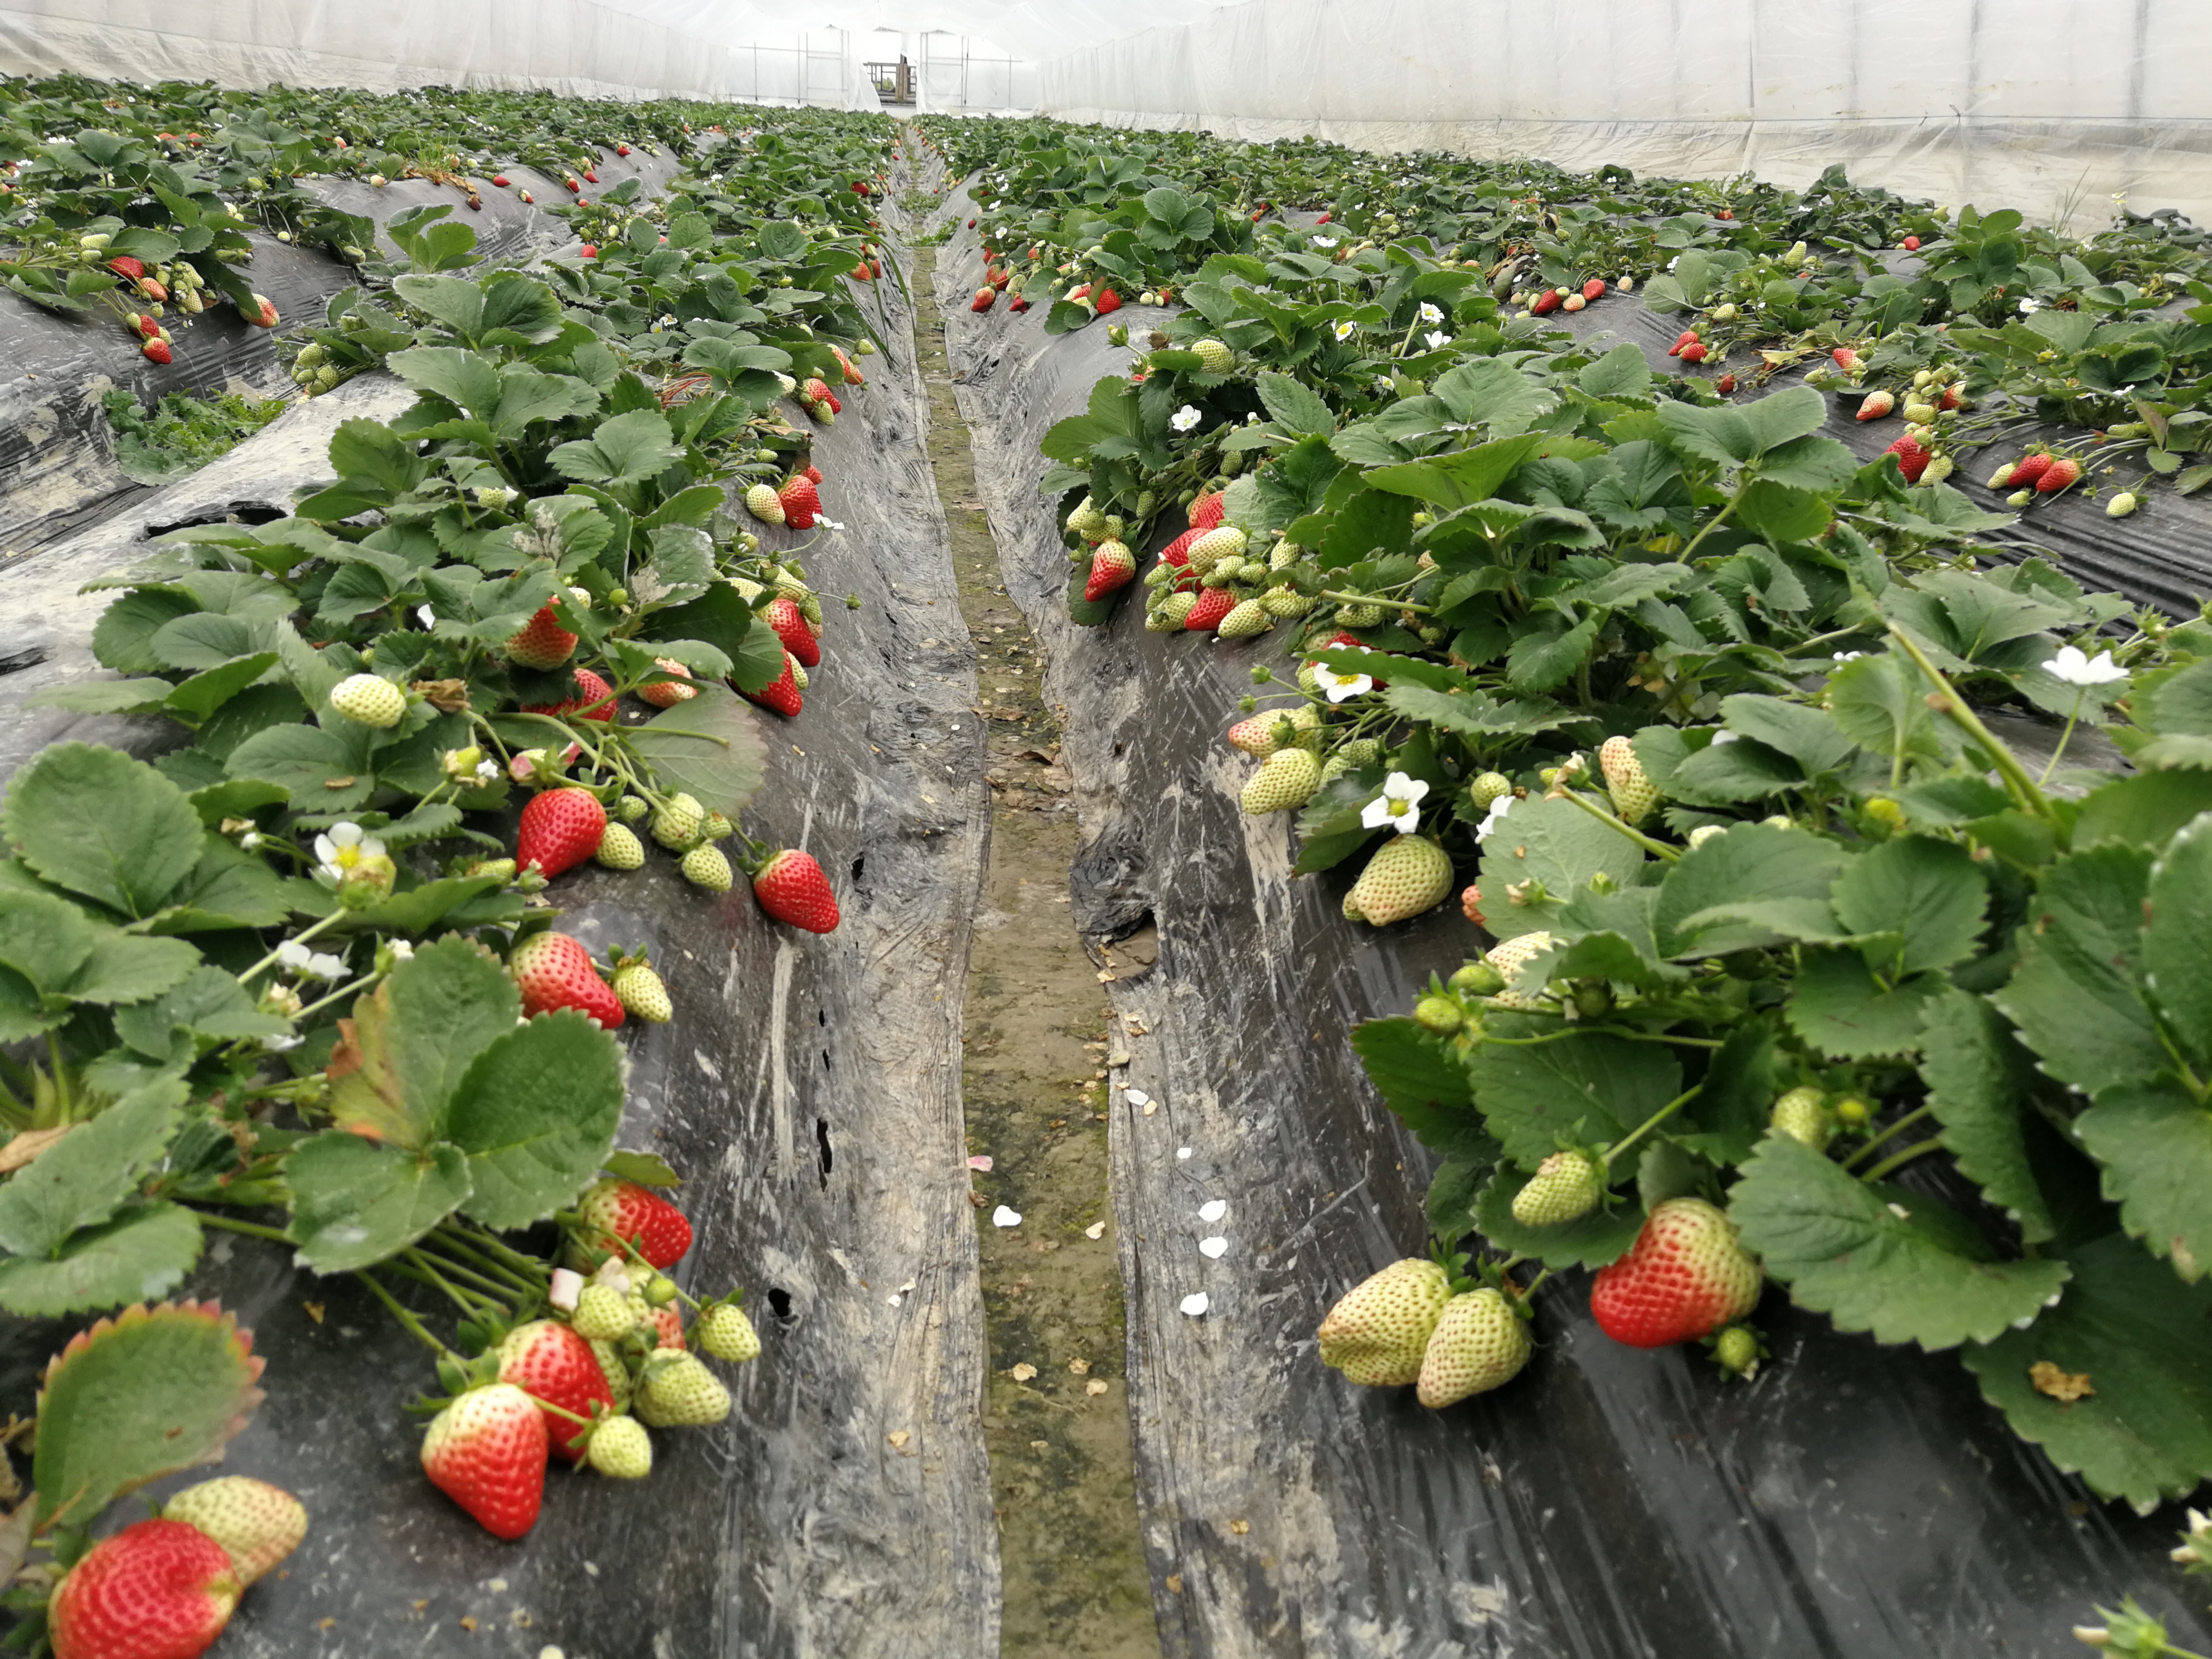StrawberryCone: (509, 767, 611, 906), (744, 840, 852, 943), (721, 641, 824, 746), (752, 589, 834, 664), (775, 469, 834, 538), (1183, 580, 1242, 640), (2029, 458, 2085, 498), (2005, 448, 2054, 491), (1662, 321, 1712, 357), (1092, 284, 1129, 324), (1679, 345, 1714, 371)
StrawberryIrremovable: (44, 1525, 251, 1657), (411, 1370, 554, 1553), (1588, 1204, 1777, 1340), (146, 1466, 320, 1588), (479, 1309, 618, 1453), (1308, 1262, 1454, 1394), (552, 1159, 707, 1279), (1332, 812, 1460, 939), (1407, 1279, 1552, 1391), (505, 920, 620, 1039), (1242, 727, 1385, 819), (608, 1358, 766, 1438), (1740, 1070, 1869, 1145), (1496, 1147, 1618, 1220), (312, 657, 423, 735), (1592, 730, 1679, 829), (1407, 958, 1510, 1037), (578, 1408, 665, 1495), (622, 633, 702, 727), (496, 592, 585, 674), (561, 1272, 644, 1347), (1214, 699, 1338, 746), (674, 1293, 768, 1354), (620, 950, 681, 1030), (648, 786, 711, 852), (1075, 538, 1139, 599), (791, 371, 846, 430), (1717, 1316, 1766, 1375), (596, 821, 648, 873), (1468, 765, 1519, 816), (1190, 331, 1242, 380), (441, 742, 498, 786), (1141, 589, 1200, 631), (131, 312, 176, 366), (1261, 580, 1324, 619), (1186, 525, 1244, 566), (1219, 599, 1278, 640), (744, 479, 789, 530), (683, 845, 730, 892), (1209, 556, 1271, 589), (1939, 371, 1986, 415), (1919, 446, 1963, 491), (1075, 512, 1134, 545), (1062, 491, 1111, 532), (1332, 594, 1388, 627), (824, 345, 866, 389), (984, 253, 1029, 293), (1858, 383, 1900, 425), (1501, 279, 1538, 326), (1900, 387, 1940, 429), (846, 237, 885, 281), (1831, 338, 1869, 382), (235, 291, 277, 329), (169, 251, 207, 291), (1057, 284, 1096, 324), (1266, 532, 1305, 570), (174, 284, 212, 321), (2104, 486, 2141, 525), (75, 227, 117, 260), (475, 483, 512, 516), (1987, 457, 2019, 495), (700, 809, 735, 842), (296, 366, 343, 390), (1775, 239, 1811, 270), (334, 239, 371, 268), (970, 282, 1001, 315), (615, 793, 651, 821), (291, 340, 327, 368), (437, 152, 481, 174), (1709, 296, 1740, 326), (132, 279, 165, 307), (1211, 448, 1244, 476), (810, 394, 838, 427), (1554, 282, 1581, 315), (749, 437, 780, 465), (1912, 368, 1944, 396), (1139, 288, 1172, 312), (1371, 211, 1402, 235), (2001, 490, 2040, 509), (848, 331, 874, 357), (1613, 270, 1639, 296), (1137, 490, 1162, 518), (242, 173, 268, 197), (1054, 260, 1087, 279), (1026, 240, 1050, 263), (559, 169, 583, 190), (273, 225, 291, 246), (578, 152, 594, 173), (583, 169, 599, 185), (517, 188, 533, 204)
StrawberryOther: (507, 662, 625, 725), (1153, 528, 1214, 584), (1881, 429, 1925, 495), (103, 246, 145, 288), (1576, 268, 1613, 310), (1526, 284, 1557, 324), (1007, 284, 1043, 315), (575, 232, 606, 265), (611, 141, 634, 164), (489, 173, 512, 190)
StrawberryRemovable: (514, 769, 599, 899), (752, 847, 848, 939), (726, 641, 810, 741), (512, 671, 627, 723), (761, 589, 827, 660), (1183, 579, 1244, 636), (777, 472, 833, 535), (1883, 432, 1930, 491), (1155, 532, 1209, 580), (2008, 446, 2054, 490), (2033, 457, 2081, 495), (105, 251, 145, 288), (1665, 324, 1709, 357), (1096, 284, 1129, 321), (1526, 288, 1562, 321), (1581, 270, 1606, 305), (1007, 288, 1040, 312), (1681, 343, 1712, 368), (578, 239, 599, 263), (613, 141, 634, 160), (493, 173, 512, 188)
